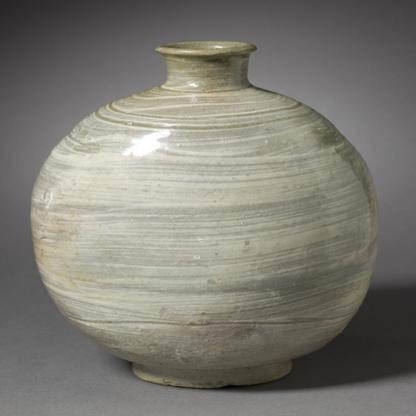vase: (32, 41, 378, 388)
